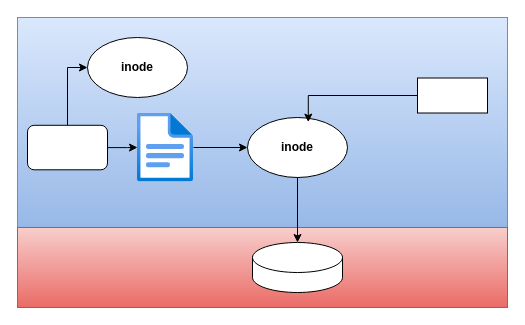
The diagram is 525 pixels wide and 325 high, and some of its shapes have lost their labels. Each missing label, with the box of its shape:
hardlink: (416, 77, 488, 113)
symlink: (26, 124, 108, 170)
